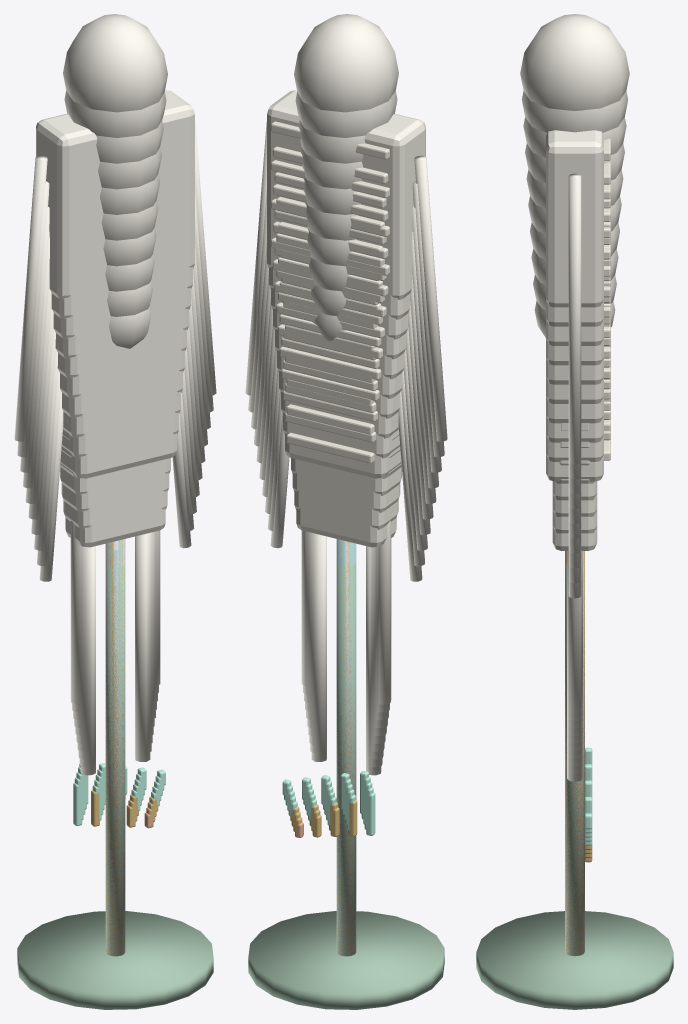
File: Gear08.fbx
3 renders of one model, left to right at view 1: azimuth 30°, elevation 25°; view 2: azimuth 150°, elevation 25°; view 3: azimuth 270°, elevation 25°, orthographic.
Parts seen in each view (by area): view 1: Gear08_V10_Linen, Gear08_V1_Sage, Gear08_V1_Linen, Gear08_V2_Linen, Gear08_V9_Linen, Gear08_V6_Linen, Gear08_V5_Linen, Gear08_V3_Linen, Gear08_V4_Linen, Gear08_V8_Linen, Gear08_V7_Linen, Gear08_V10_Gold (+9 smaller); view 2: Gear08_V10_Linen, Gear08_V1_Sage, Gear08_V1_Linen, Gear08_V9_Linen, Gear08_V2_Linen, Gear08_V4_Linen, Gear08_V8_Linen, Gear08_V3_Linen, Gear08_V7_Linen, Gear08_V6_Linen, Gear08_V5_Linen, Gear08_V1_Ivory (+20 smaller); view 3: Gear08_V10_Linen, Gear08_V1_Sage, Gear08_V9_Linen, Gear08_V10_Gold, Gear08_V4_Linen, Gear08_V8_Linen, Gear08_V7_Linen, Gear08_V3_Linen, Gear08_V2_Linen, Gear08_V6_Linen, Gear08_V1_Linen, Gear08_V5_Linen (+4 smaller).
Boxes of the visible parts, bbox=[...] form: Gear08_V10_Linen: bbox=[14, 14, 216, 704]; Gear08_V1_Sage: bbox=[17, 563, 213, 1009]; Gear08_V1_Linen: bbox=[39, 307, 191, 775]; Gear08_V2_Linen: bbox=[37, 281, 194, 767]; Gear08_V9_Linen: bbox=[17, 91, 213, 712]; Gear08_V6_Linen: bbox=[25, 174, 205, 735]; Gear08_V5_Linen: bbox=[28, 201, 202, 743]; Gear08_V3_Linen: bbox=[34, 254, 196, 759]; Gear08_V4_Linen: bbox=[31, 227, 199, 751]; Gear08_V8_Linen: bbox=[20, 120, 210, 720]; Gear08_V7_Linen: bbox=[23, 147, 207, 728]; Gear08_V10_Gold: bbox=[105, 541, 125, 956]; Gear08_V10_Linen: bbox=[245, 14, 447, 704]; Gear08_V1_Sage: bbox=[248, 563, 444, 1009]; Gear08_V1_Linen: bbox=[270, 312, 422, 775]; Gear08_V9_Linen: bbox=[248, 91, 444, 712]; Gear08_V2_Linen: bbox=[267, 285, 424, 767]; Gear08_V4_Linen: bbox=[262, 227, 430, 751]; Gear08_V8_Linen: bbox=[251, 120, 441, 720]; Gear08_V3_Linen: bbox=[265, 258, 427, 759]; Gear08_V7_Linen: bbox=[254, 147, 438, 728]; Gear08_V6_Linen: bbox=[256, 178, 436, 735]; Gear08_V5_Linen: bbox=[259, 202, 433, 743]; Gear08_V1_Ivory: bbox=[286, 348, 374, 463]; Gear08_V10_Linen: bbox=[520, 14, 629, 713]; Gear08_V1_Sage: bbox=[476, 564, 673, 1009]; Gear08_V9_Linen: bbox=[521, 91, 628, 720]; Gear08_V10_Gold: bbox=[565, 551, 584, 955]; Gear08_V4_Linen: bbox=[530, 223, 619, 758]; Gear08_V8_Linen: bbox=[523, 117, 626, 728]; Gear08_V7_Linen: bbox=[525, 143, 624, 736]; Gear08_V3_Linen: bbox=[531, 249, 618, 766]; Gear08_V2_Linen: bbox=[533, 275, 616, 774]; Gear08_V6_Linen: bbox=[526, 170, 623, 743]; Gear08_V1_Linen: bbox=[534, 301, 615, 781]; Gear08_V5_Linen: bbox=[528, 196, 621, 751].
Size of the model in its own units: 51.75 by 234 by 44.
